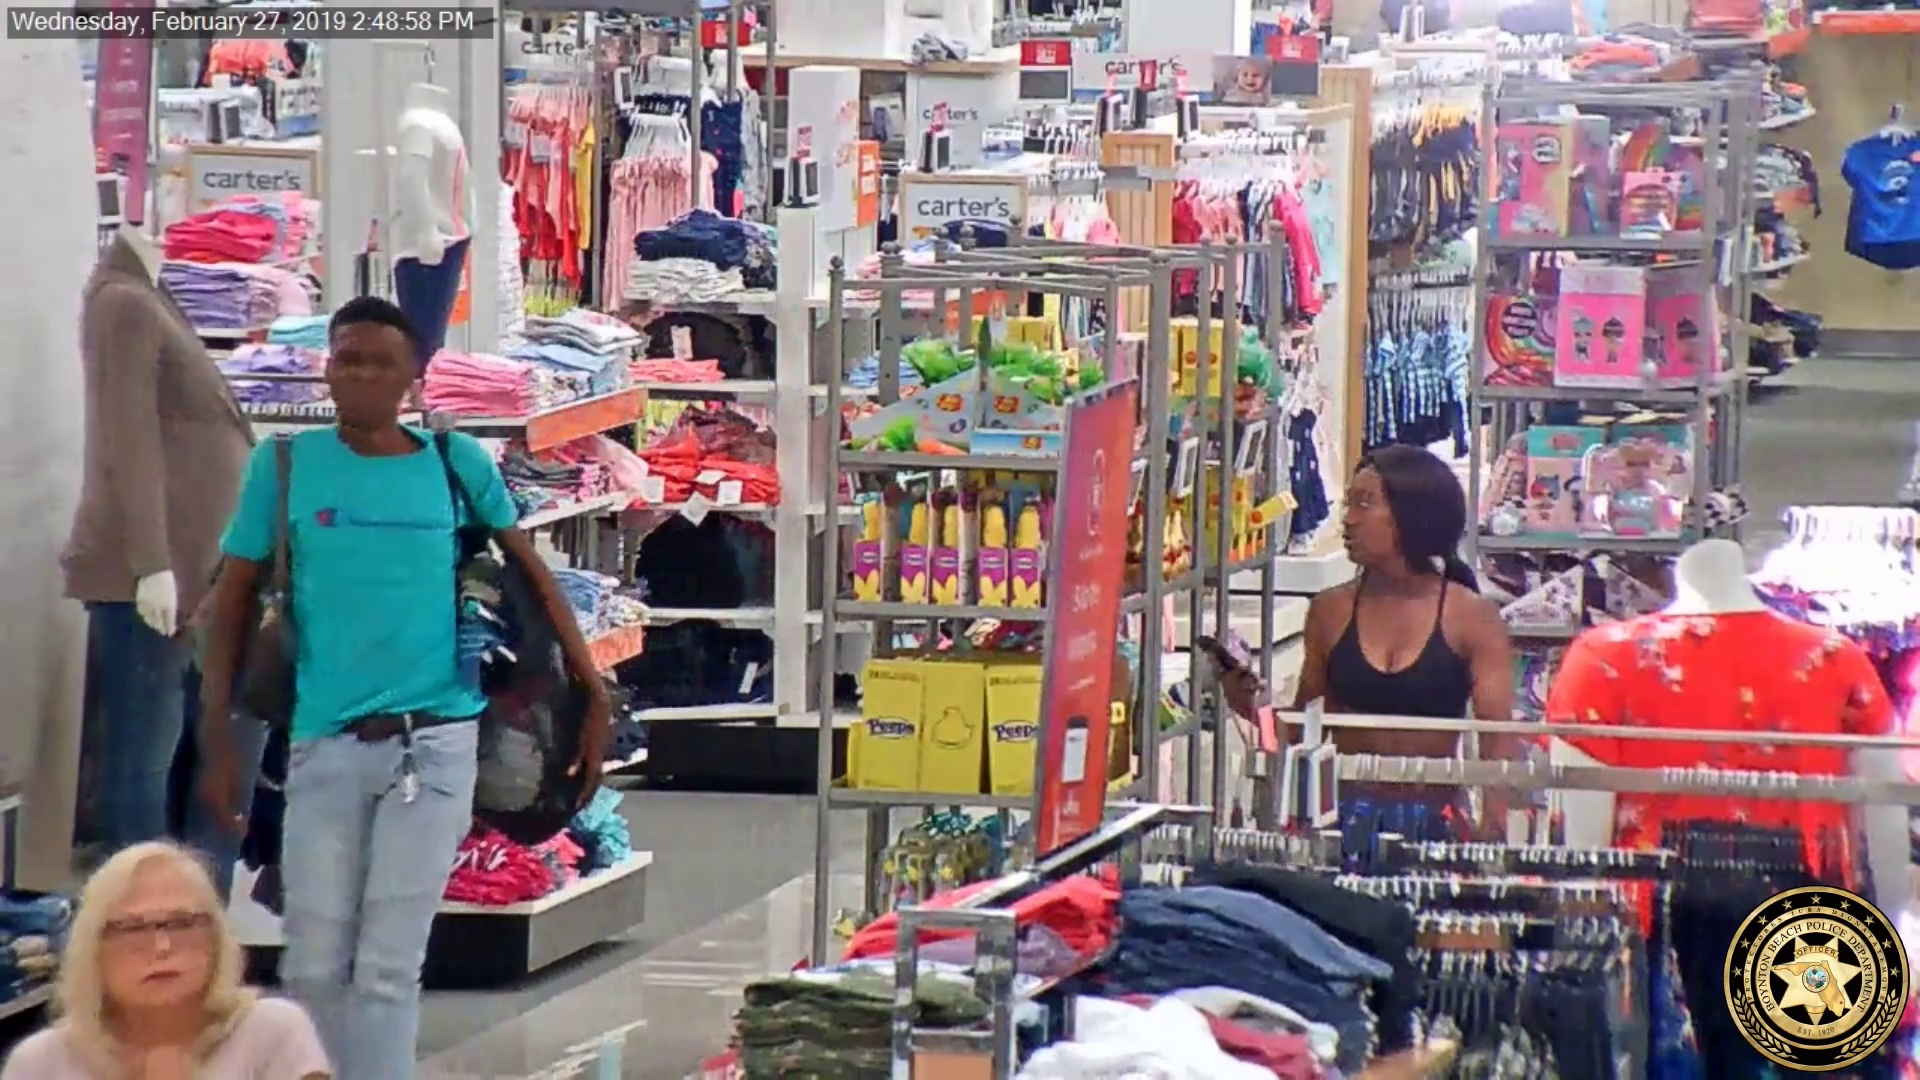face: (94, 879, 206, 1019), (1323, 462, 1423, 568), (317, 322, 414, 425)
